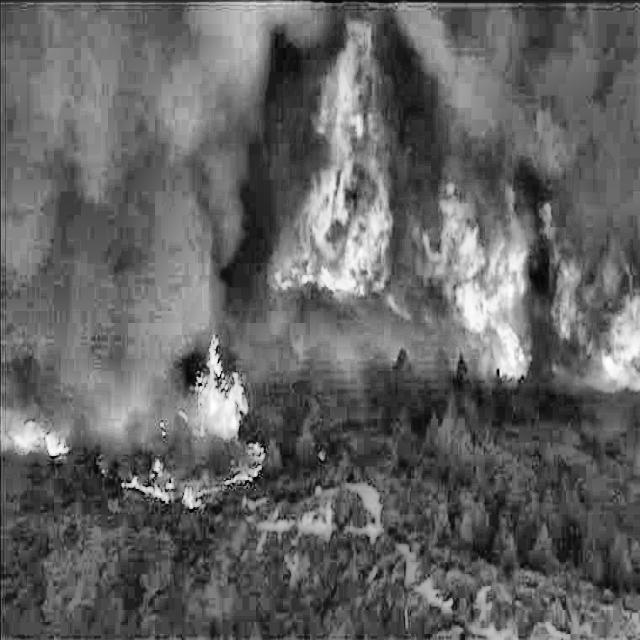fire: (268, 15, 640, 439), (106, 299, 288, 536), (1, 335, 76, 522)
